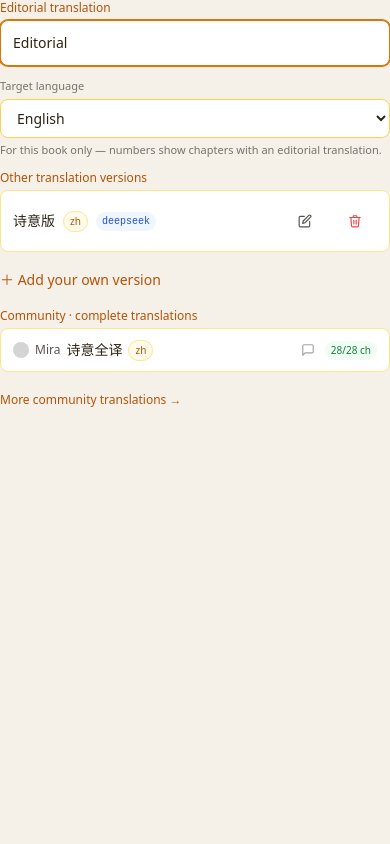
Test: searching the community dialog re-queries the server
This screenshot has width=390, height=844.
Click the button "More community translations →": {"x": 91, "y": 400} x1=0 y1=378 x2=182 y2=422
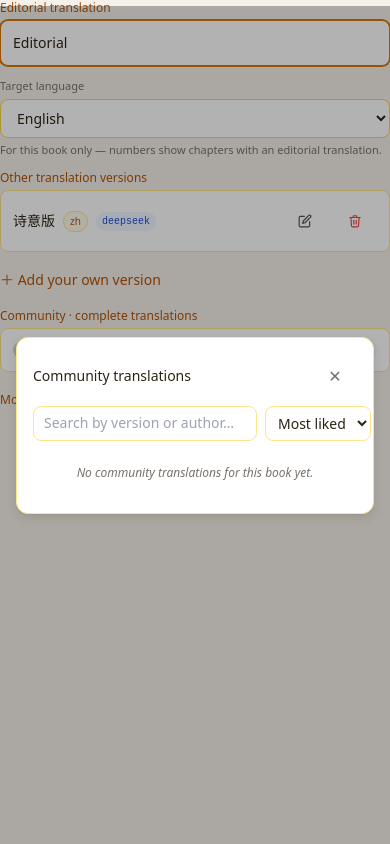
In the field named "Search community translations": {"x": 145, "y": 423} x1=33 y1=406 x2=257 y2=440, type "Mira"
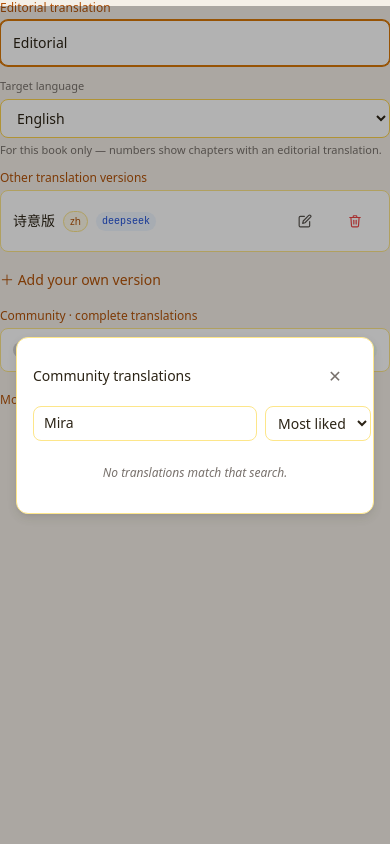
Expected: the text "No translations match that search." is shown, x1=103 y1=464 x2=287 y2=480
